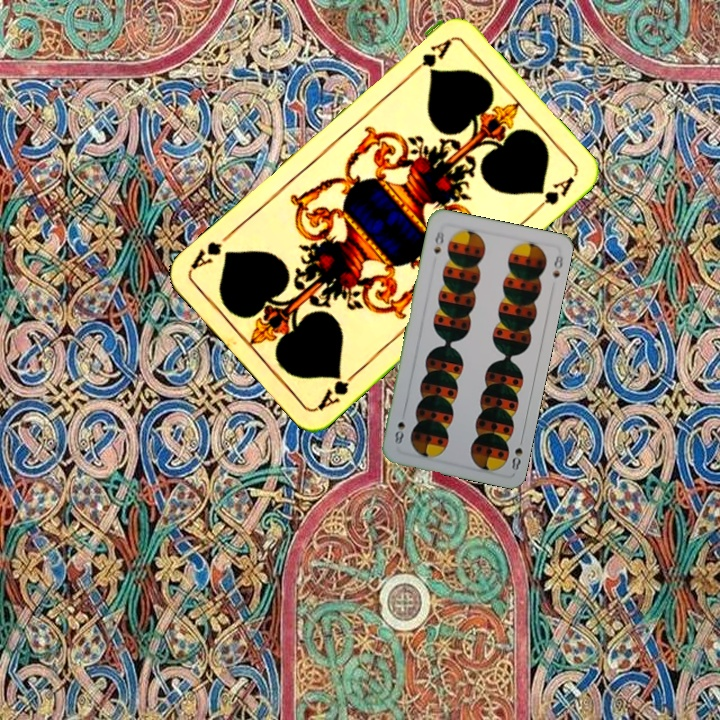GA: (314, 366, 362, 413), (405, 35, 455, 79)
S8: (508, 433, 526, 473), (430, 223, 447, 256)
